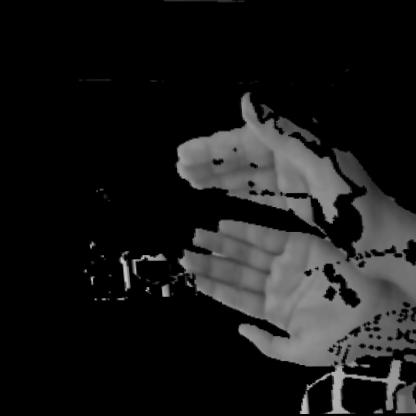dua: (77, 81, 415, 380)
